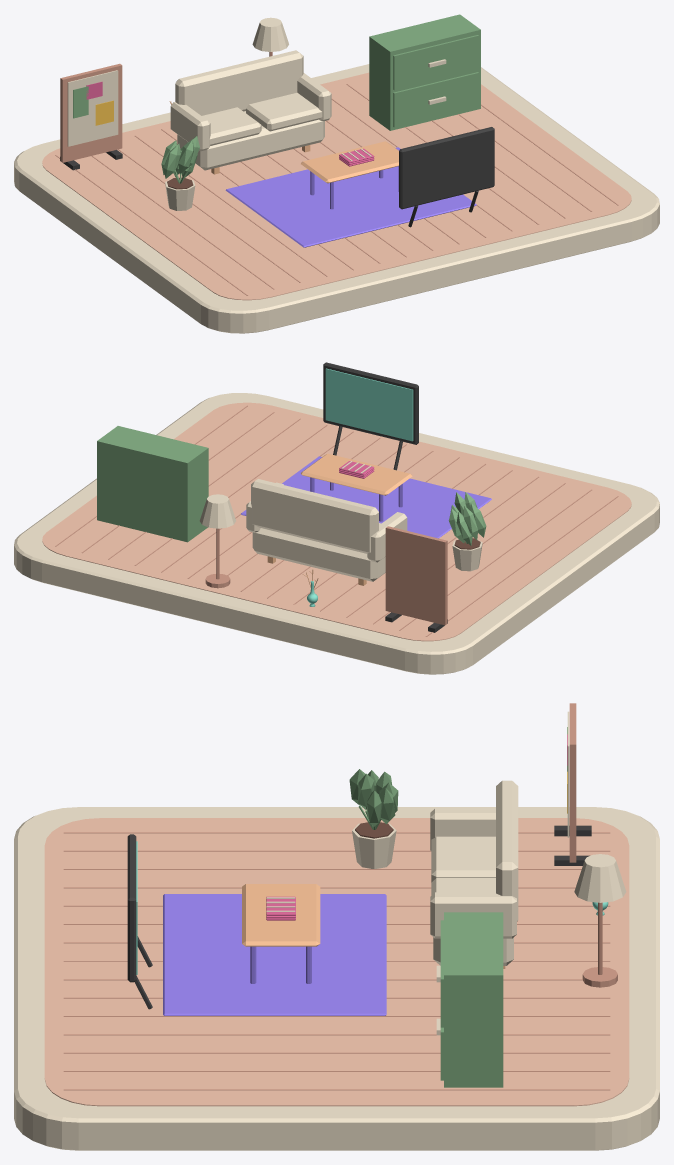
The model's file is room.fbx.
The picture shows the model from 3 angles, top to bottom: view 1: azimuth 30°, elevation 25°; view 2: azimuth 150°, elevation 25°; view 3: azimuth 270°, elevation 25°; orthographic projection. The views are drawn at different scales.
Parts seen in each view (by area): view 1: COM-02 Floor Surface, COM-01 Rounded Base Direct, Cabinet, Rug, TV frame, Back, Base, Canvas, Panel, Rounded table top, Pot, Seat cushion.001 (+4 smaller); view 2: COM-02 Floor Surface, COM-01 Rounded Base Direct, Cabinet, Back, Panel, Screen, Rug, Base, Rounded table top, Pot, TV frame, Lamp shade (+1 smaller); view 3: COM-02 Floor Surface, COM-01 Rounded Base Direct, Rug, Cabinet, Rounded table top, Pot, Seat cushion, Back, Arm.001, Lamp shade, Arm, TV frame (+8 smaller).
Boxes of the visible parts, <box> form: COM-02 Floor Surface: <box>42,72,631,300</box>; COM-01 Rounded Base Direct: <box>14,64,659,333</box>; Cabinet: <box>369,14,480,130</box>; Rug: <box>225,147,476,247</box>; TV frame: <box>399,127,494,209</box>; Back: <box>175,50,303,115</box>; Base: <box>177,111,324,170</box>; Canvas: <box>67,70,118,146</box>; Panel: <box>60,63,122,162</box>; Rounded table top: <box>301,141,398,183</box>; Pot: <box>161,136,199,210</box>; Seat cushion.001: <box>246,92,322,131</box>; COM-02 Floor Surface: <box>42,402,631,641</box>; COM-01 Rounded Base Direct: <box>14,393,659,674</box>; Cabinet: <box>97,426,208,542</box>; Back: <box>251,479,378,553</box>; Panel: <box>385,526,447,625</box>; Screen: <box>325,368,413,441</box>; Rug: <box>241,456,491,538</box>; Base: <box>252,528,385,581</box>; Rounded table top: <box>301,453,412,495</box>; Pot: <box>448,492,486,571</box>; TV frame: <box>323,362,418,444</box>; Lamp shade: <box>199,494,235,528</box>; COM-02 Floor Surface: <box>44,818,629,1106</box>; COM-01 Rounded Base Direct: <box>14,807,659,1150</box>; Rug: <box>163,894,386,1015</box>; Cabinet: <box>436,912,503,1087</box>; Rounded table top: <box>242,884,320,946</box>; Pot: <box>349,769,398,868</box>; Seat cushion: <box>431,836,495,882</box>; Back: <box>496,780,518,921</box>; Arm.001: <box>430,892,516,938</box>; Lamp shade: <box>574,854,626,902</box>; Arm: <box>430,808,495,850</box>; TV frame: <box>127,834,136,982</box>.
Size of the model in its own units: 600 by 141 by 520.
